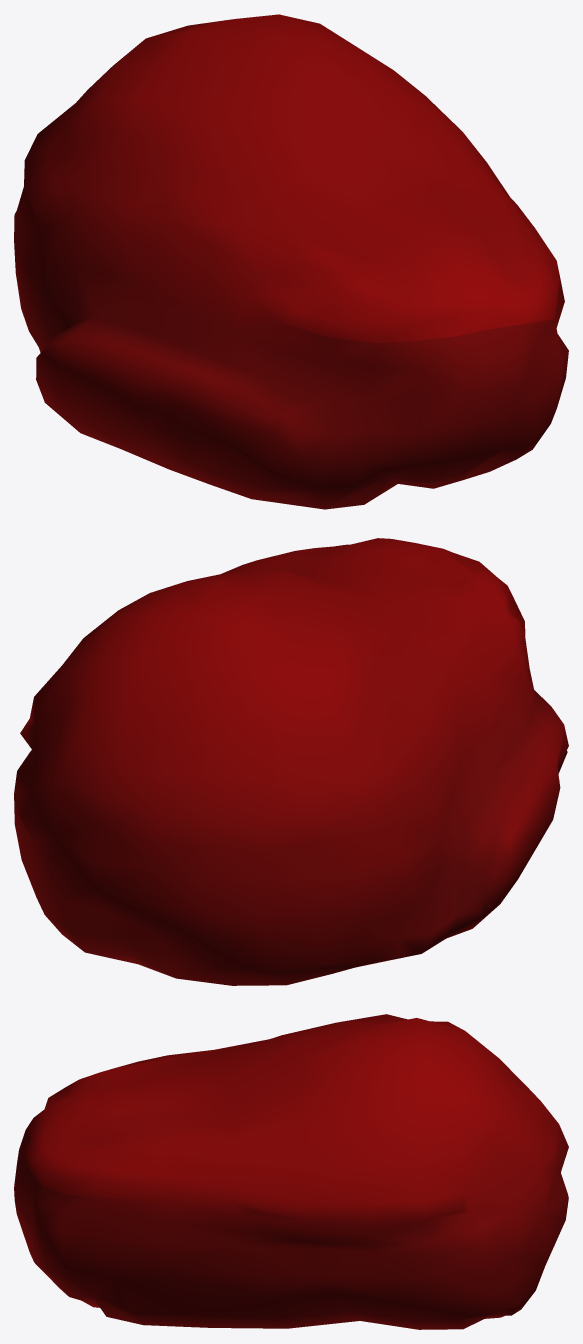
File: geology-rocks-rocklarge_v2.fbx
3 renders of one model, top to bottom at view 1: azimuth 30°, elevation 25°; view 2: azimuth 150°, elevation 25°; view 3: azimuth 270°, elevation 25°, orthographic. The views are drawn at different scales.
Visible parts, largest first — view 1: RockLarge_v2; view 2: RockLarge_v2; view 3: RockLarge_v2.
Boxes of the visible parts, box(x1,y1,x2,y2) form: RockLarge_v2: box(14, 14, 568, 509); RockLarge_v2: box(14, 538, 568, 985); RockLarge_v2: box(14, 1014, 568, 1329).
Bounding box in the file's own units: 8.89 × 6.59 × 12.28.
